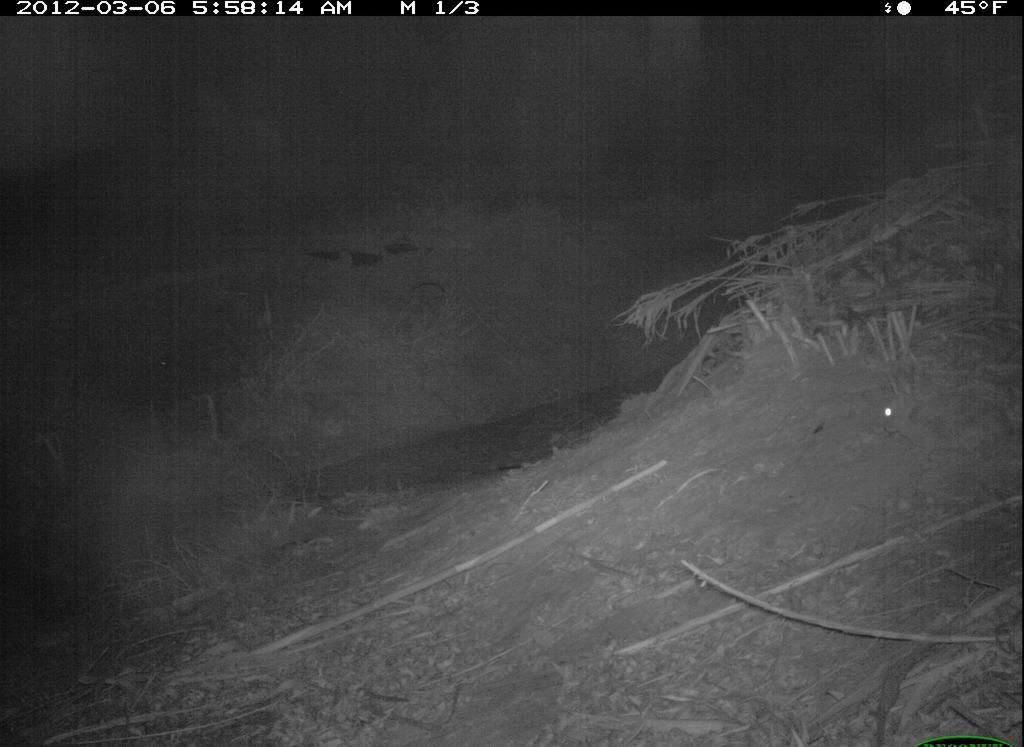rabbit: (879, 359, 1017, 473)
